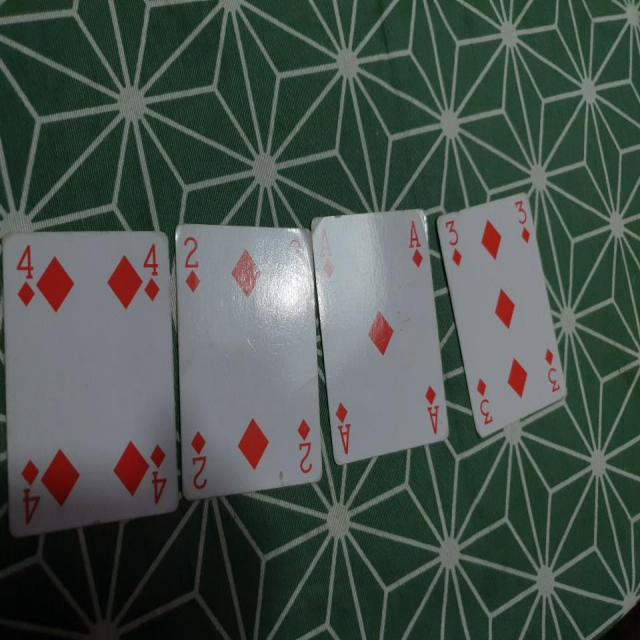2 Diamonds: (172, 217, 326, 508)
3 Diamonds: (441, 188, 566, 441)
4 Diamonds: (1, 230, 188, 540)
A Diamonds: (314, 202, 454, 469)
